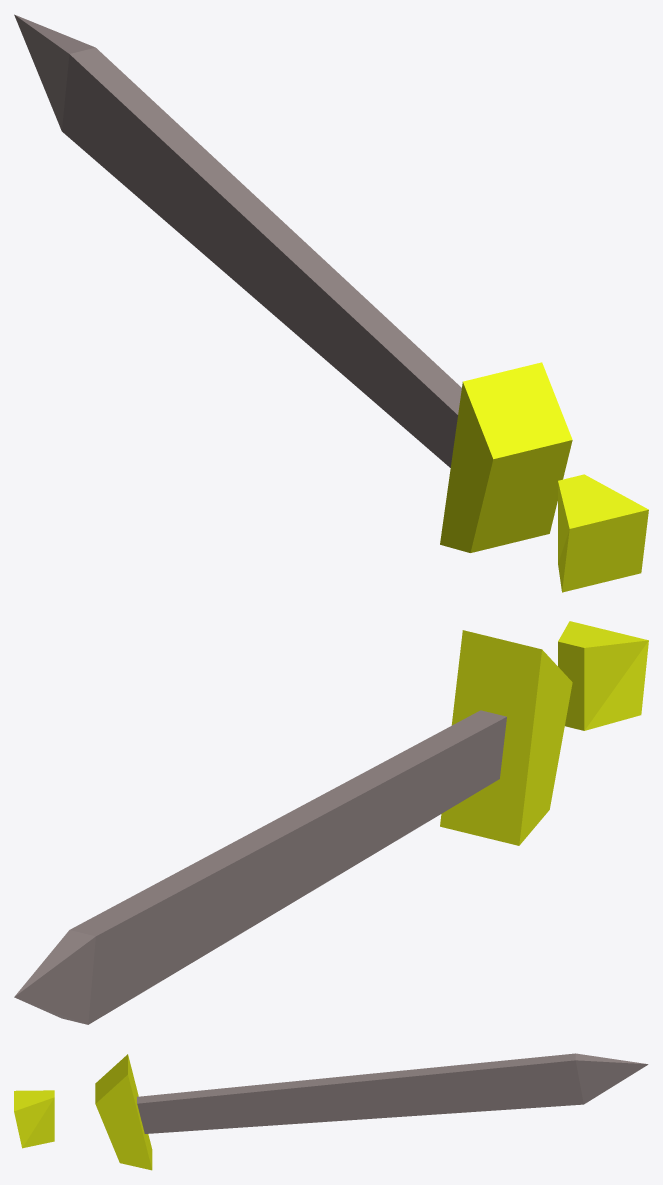
Rendered from gfx_56.obj.
The picture shows the model from 3 angles, top to bottom: view 1: azimuth 30°, elevation 25°; view 2: azimuth 150°, elevation 25°; view 3: azimuth 270°, elevation 25°; orthographic projection. The views are drawn at different scales.
Size of the model in its own units: 0.0469 by 0.1094 by 0.6094.
